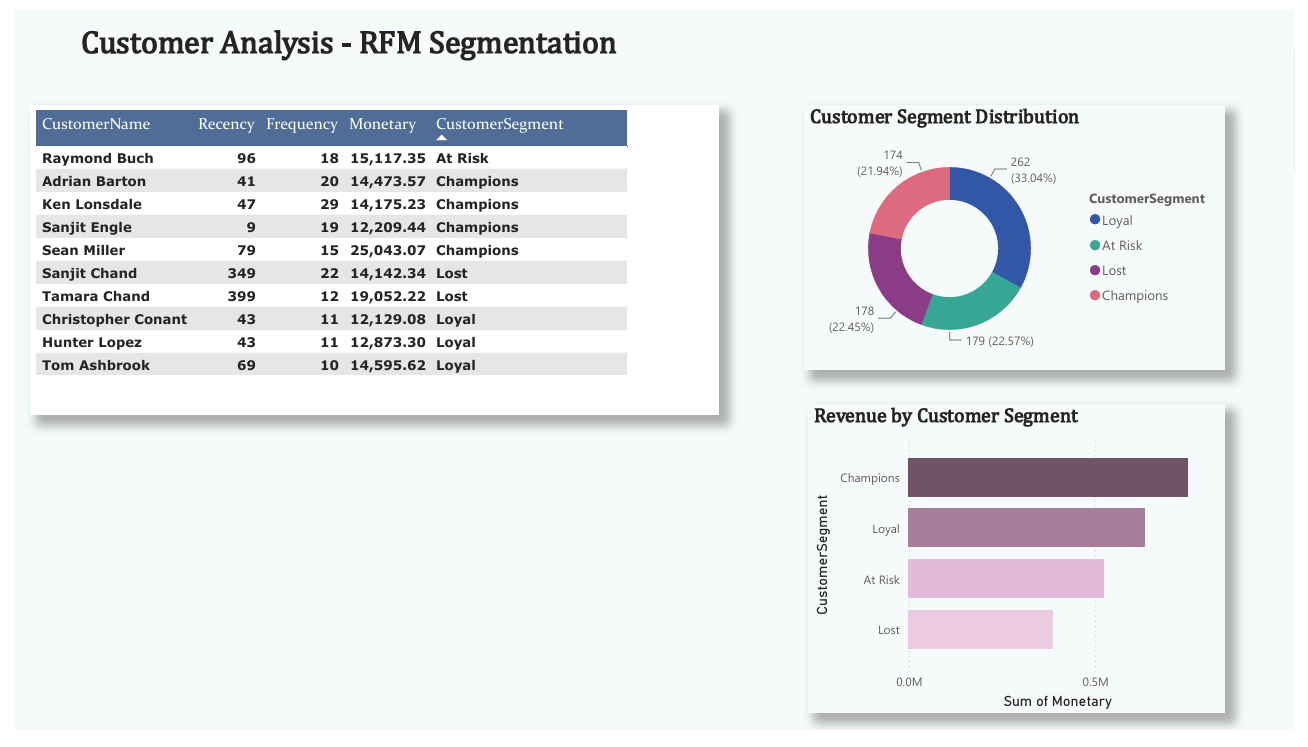

Layout of this report page (visuals, bound fields, positions):
{"tool":"powerbi","page":{"name":"Customer Analysis","canvas":[1280,720],"ordinal":1},"visuals":[{"type":"textbox","box":[61,9,703,78],"z":0},{"type":"clusteredBarChart","title":"Revenue by Customer Segment","fields":{"Category":["shopify_project rfm_segments.CustomerSegment"],"Y":["Sum(shopify_project rfm_segments.Monetary)"]},"box":[793.8,393.8,417.5,308.8],"z":1000},{"type":"donutChart","title":"Customer Segment Distribution","fields":{"Category":["shopify_project rfm_segments.CustomerSegment"],"Y":["CountNonNull(shopify_project rfm_segments.CustomerName)"]},"box":[790,95,421.2,265],"z":2000},{"type":"tableEx","fields":{"Values":["shopify_project rfm_segments.CustomerName","Sum(shopify_project rfm_segments.Recency)","Sum(shopify_project rfm_segments.Frequency)","Sum(shopify_project rfm_segments.Monetary)","shopify_project rfm_segments.CustomerSegment"]},"box":[16,95,689,310],"z":3000}]}

Visuals, with their boxes in screenshot pixels (x1, y1, x2, y2), scaled from the page's 1280x720 canvas onto the 1308x747 screenshot:
textbox: [62,9,781,90]
"Revenue by Customer Segment" clusteredBarChart: [811,409,1238,729]
"Customer Segment Distribution" donutChart: [807,99,1238,374]
tableEx - shopify_project rfm_segments.CustomerName x Sum(shopify_project rfm_segments.Recency): [16,99,720,420]
